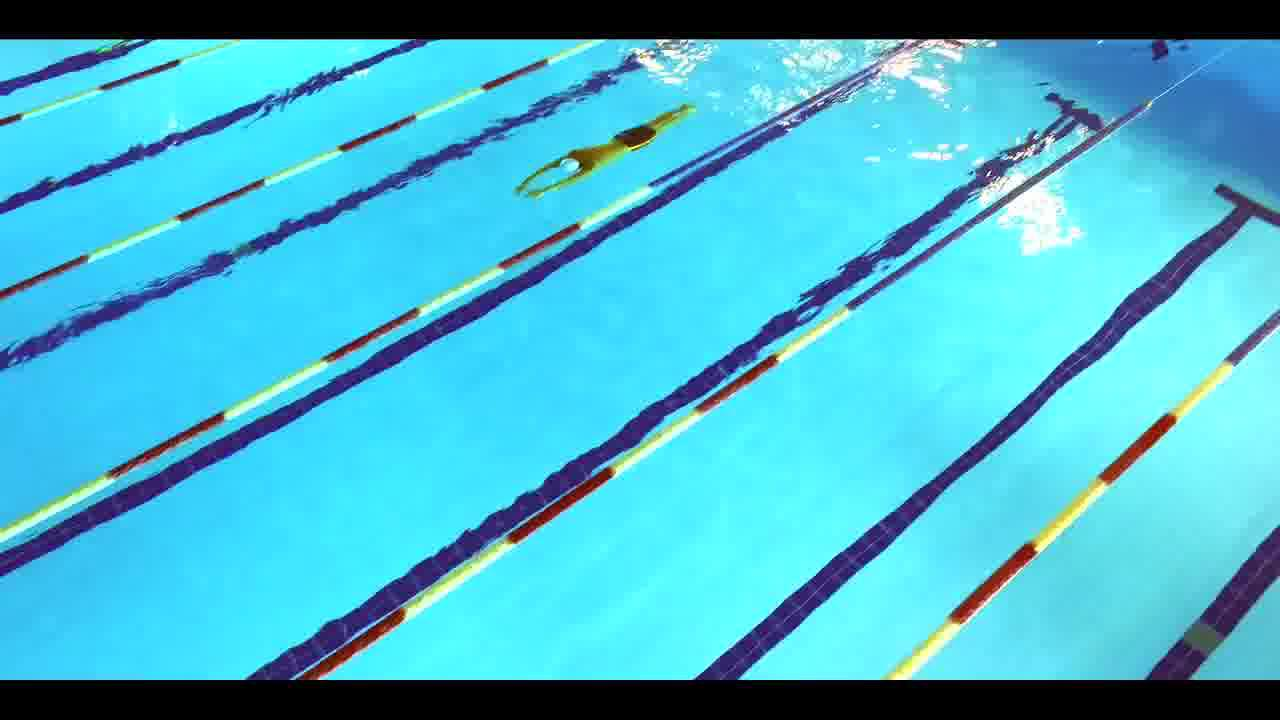swimmer: (512, 102, 697, 201)
